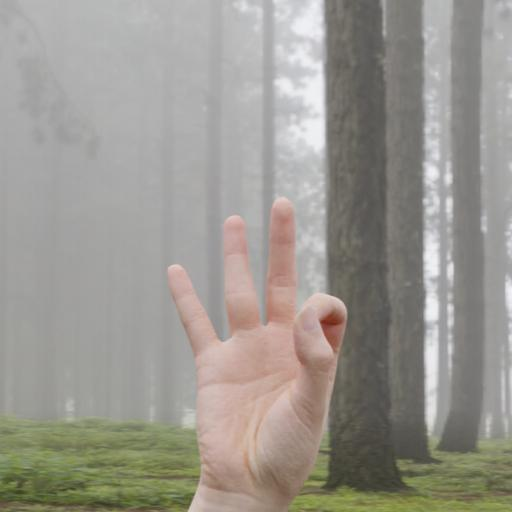F: (155, 192, 355, 498)
